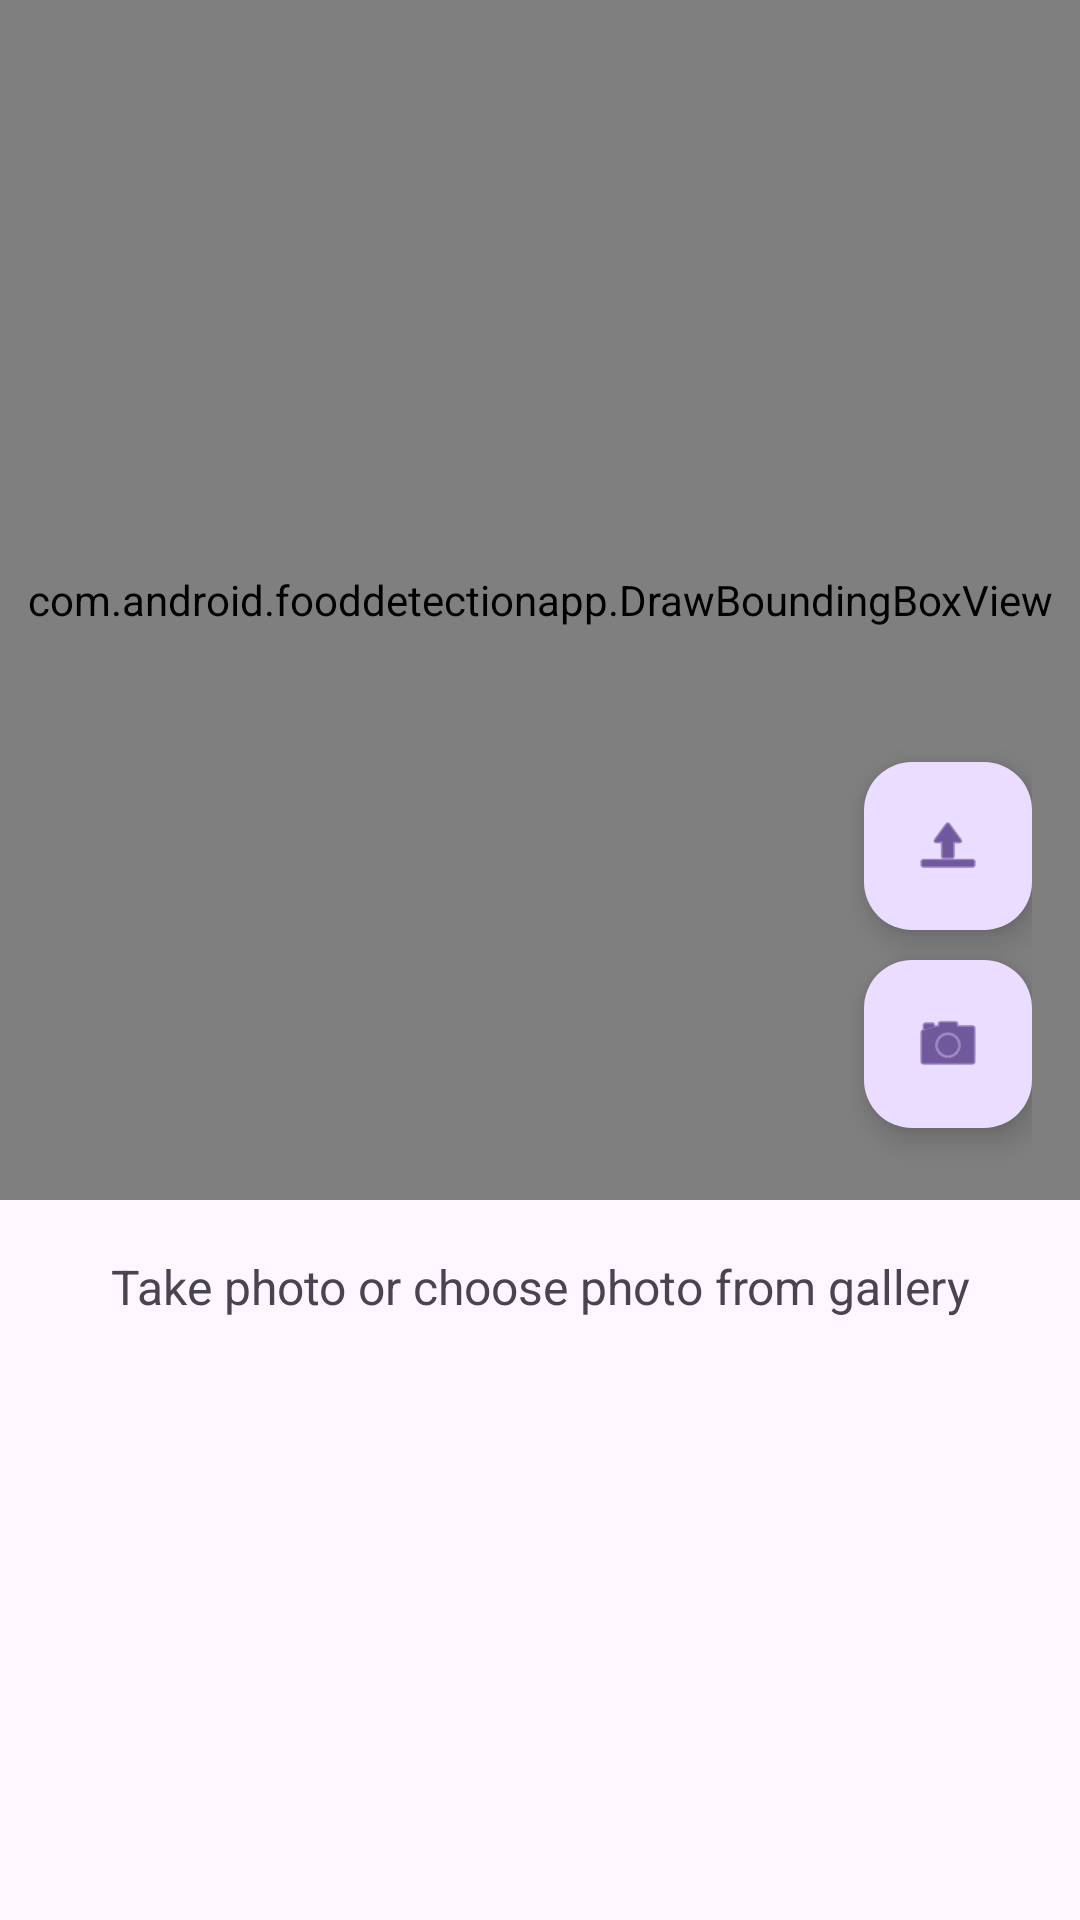

Icons on this 1080x1920 Android screen, each with the point to tap as (x,y):
camera: (948,1044)
upload: (948,846)
